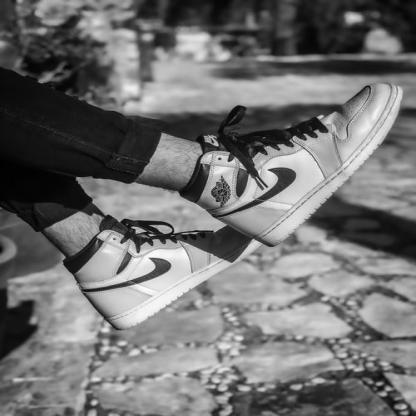ankle: (212, 178, 225, 185), (92, 248, 97, 252)
heel: (249, 230, 257, 235), (109, 314, 117, 318)
left_foot: (57, 239, 255, 332)
pinky: (375, 110, 382, 116), (217, 240, 221, 243)
right_foot: (192, 80, 400, 238)
toe: (246, 241, 250, 245), (364, 90, 369, 93)
